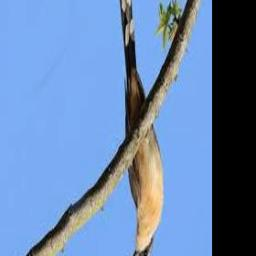Cuckoo: (119, 0, 164, 256)
